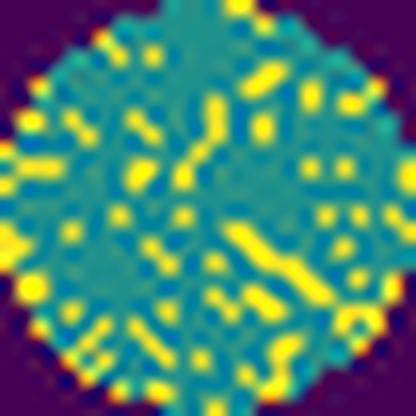Scratch: (225, 218, 342, 314), (169, 92, 231, 193)
